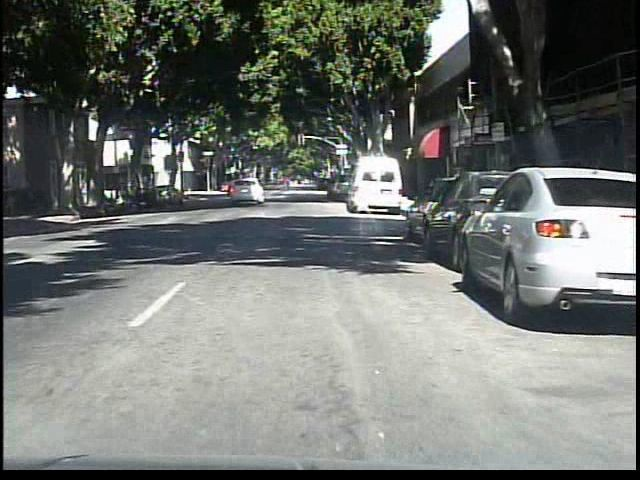person: (274, 167, 295, 200)
